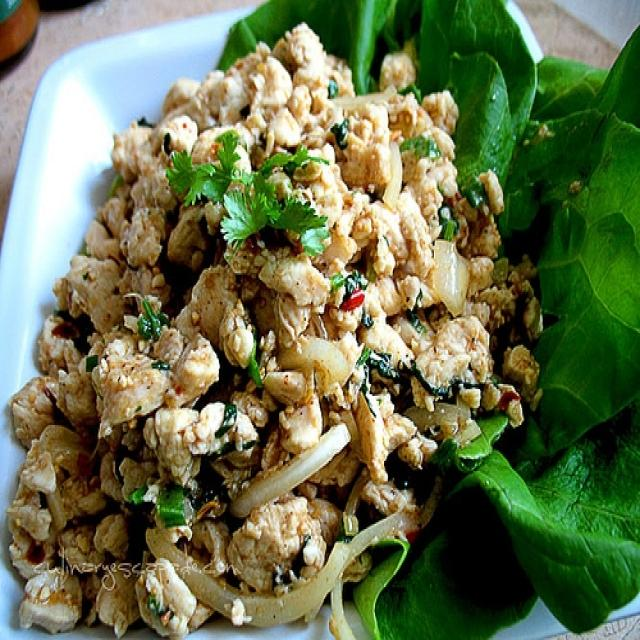鸡肉料理 含炸鸡: (9, 21, 576, 626)
